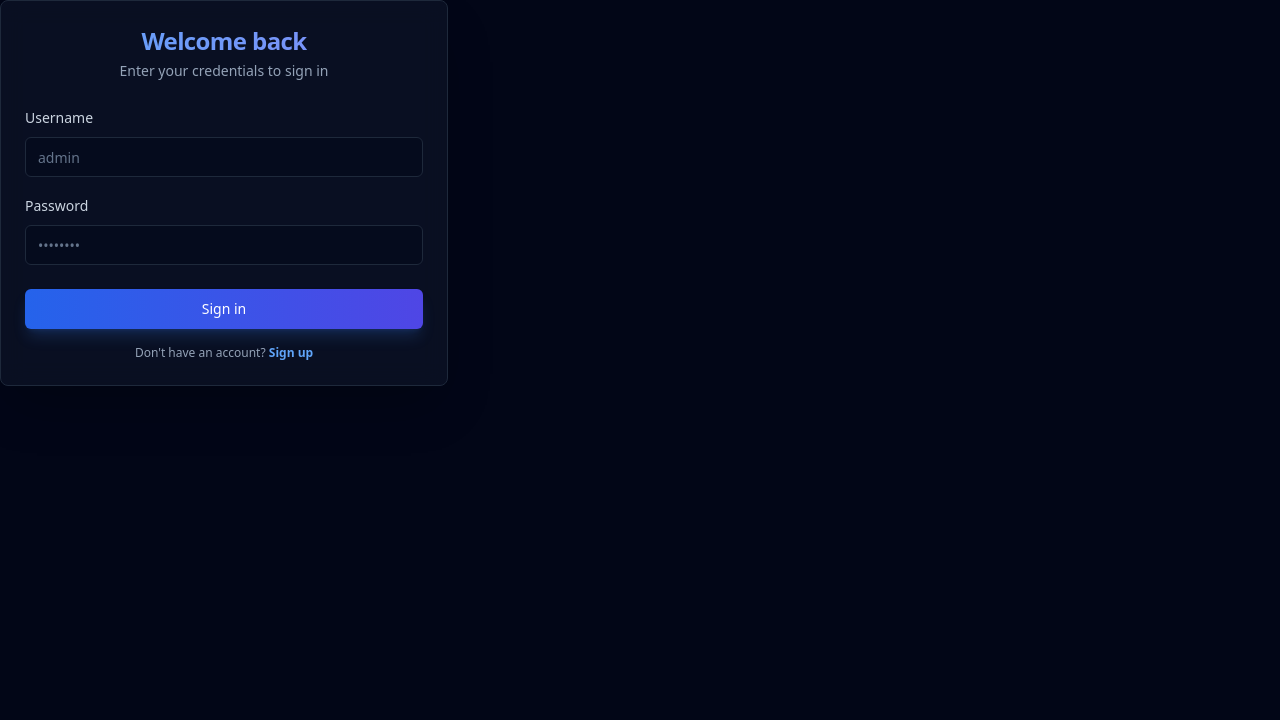
Scenario: Auth Flow › shows error if fields are empty on login
This screenshot has width=1280, height=720.
What coordinates should you click on to do the following:
click the button "Sign in"
I would click on:
 (224, 309)
Its box is [25,289,423,329].
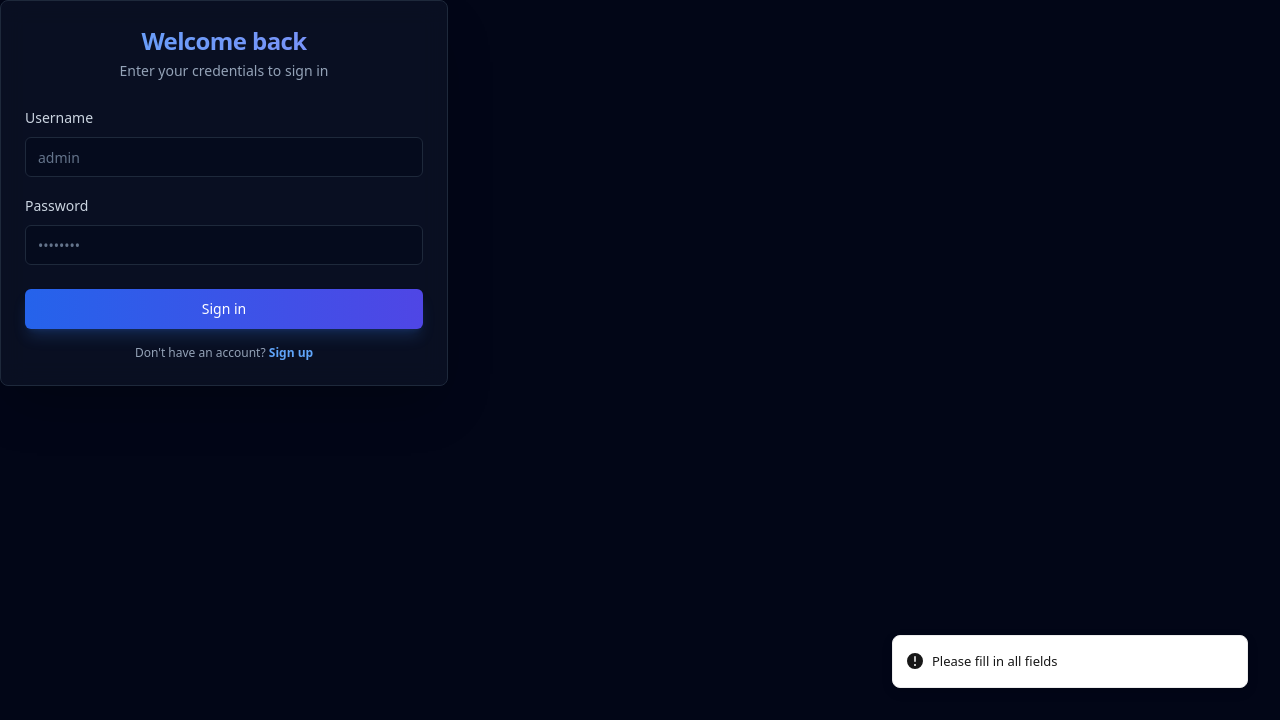
Now the text "Please fill in all fields" is shown, box [932,652,1058,671]
